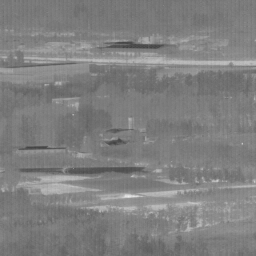aircraft: (72, 114, 74, 116)
